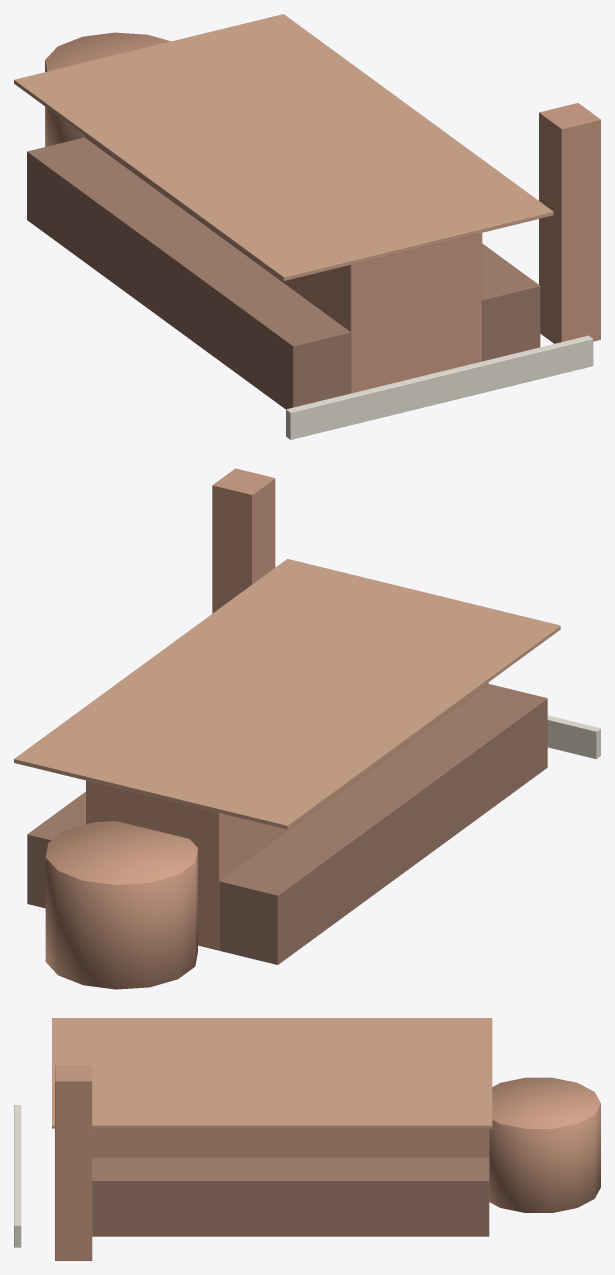
File: church.glb
The picture shows the model from 3 angles, top to bottom: view 1: azimuth 30°, elevation 25°; view 2: azimuth 150°, elevation 25°; view 3: azimuth 270°, elevation 25°; orthographic projection. The views are drawn at different scales.
Parts seen in each view (by area): view 1: roof, merged_brickDark, merged_romanBrick, atrium_wall; view 2: roof, merged_brickDark, merged_romanBrick, atrium_wall; view 3: roof, merged_romanBrick, merged_brickDark, atrium_wall.
Part boxes in pixels (<box>): roof: <box>14,14,553,280</box>; merged_brickDark: <box>27,137,540,409</box>; merged_romanBrick: <box>45,32,600,393</box>; atrium_wall: <box>286,335,593,439</box>; roof: <box>14,559,560,829</box>; merged_brickDark: <box>27,684,547,964</box>; merged_romanBrick: <box>45,468,488,989</box>; atrium_wall: <box>547,715,600,759</box>; roof: <box>52,1018,492,1128</box>; merged_romanBrick: <box>55,1065,600,1260</box>; merged_brickDark: <box>92,1157,489,1236</box>; atrium_wall: <box>14,1105,21,1247</box>.
Bounding box in the file's own units: 51 × 32 × 94.6.
